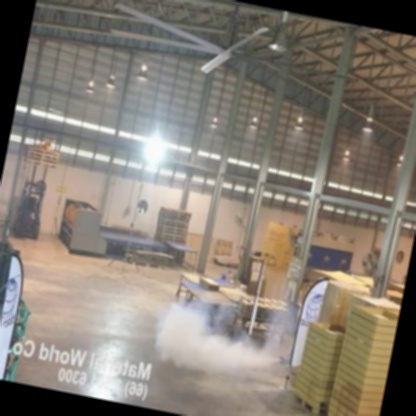smoke: (151, 278, 293, 393)
